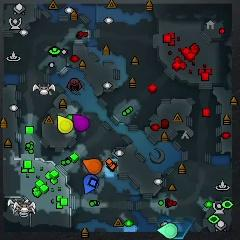p1: (82, 174, 101, 193)
p2: (156, 222, 179, 239)
p3: (73, 113, 91, 132)
p4: (56, 114, 73, 134)
p5: (83, 156, 104, 175)
